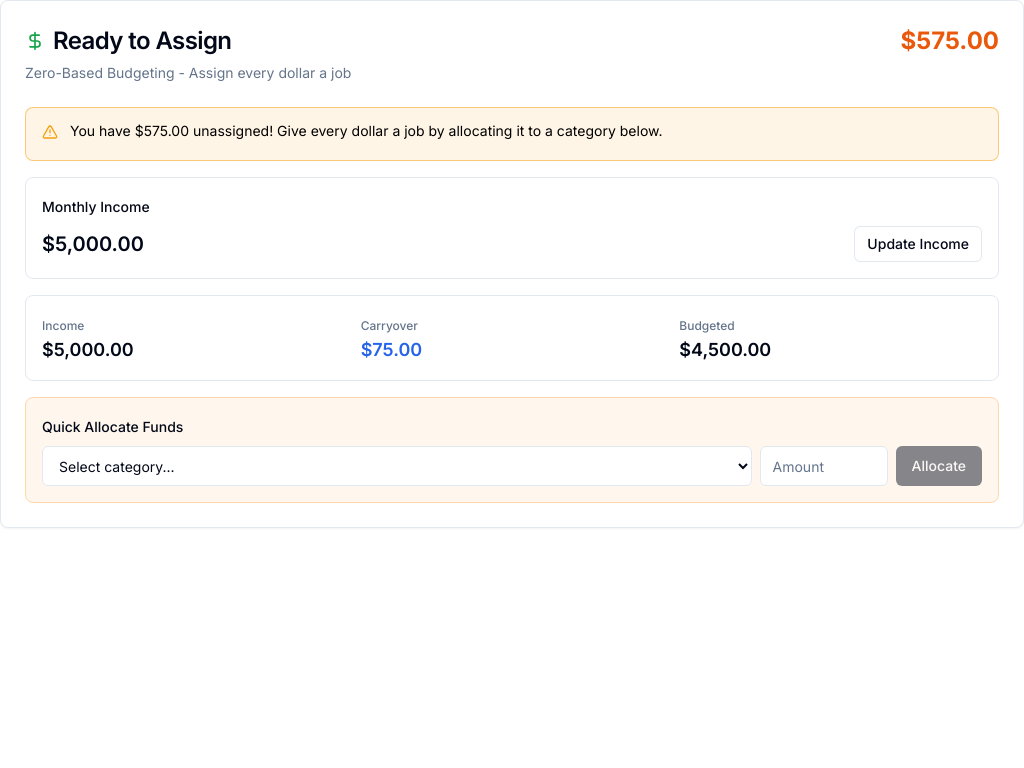
Scenario: ReadyToAssign › Income Editing › should cancel editing when Cancel is clicked
The image size is (1024, 768).
Click the button "Update Income" at [918, 244], box x1=854 y1=226 x2=982 y2=262
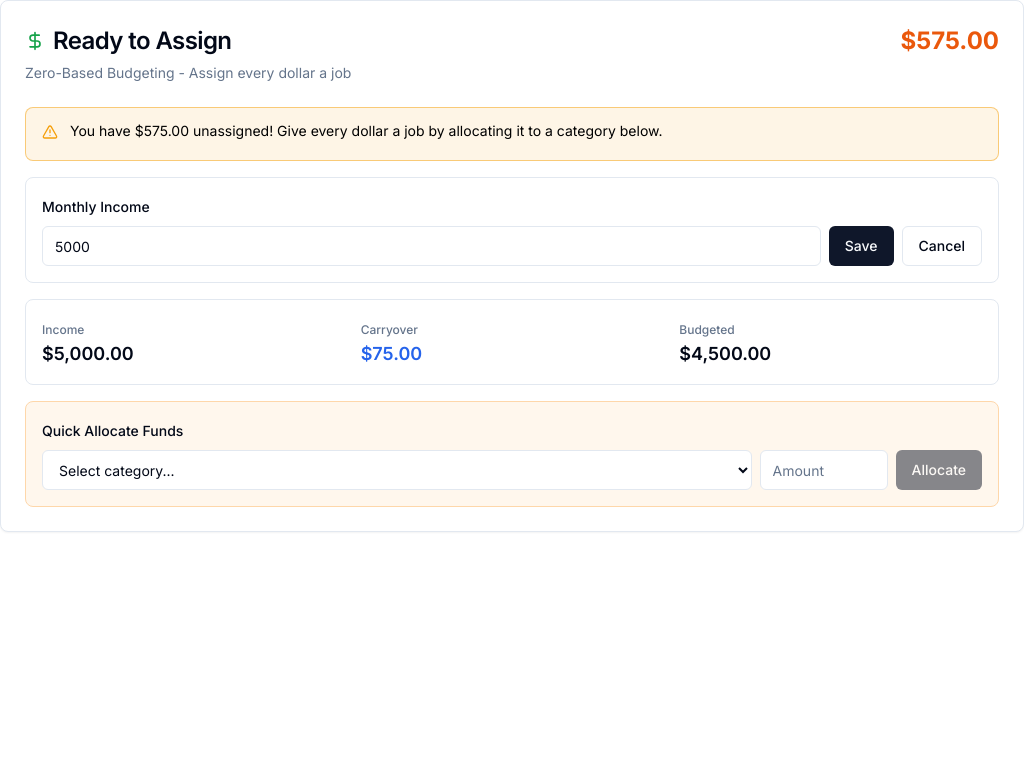
Expected: the button "Save" is shown, x1=829 y1=226 x2=894 y2=266
Click the button "Cancel" at [942, 246], box x1=902 y1=226 x2=982 y2=266
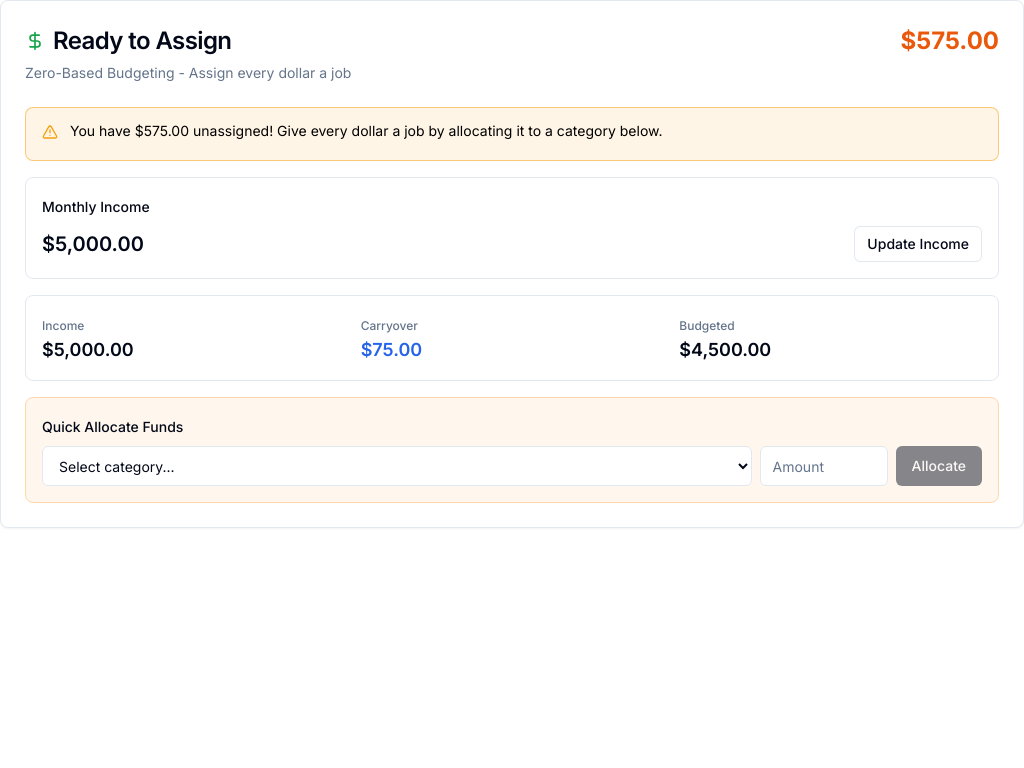
Expected: the button "Update Income" is shown, x1=854 y1=226 x2=982 y2=262
